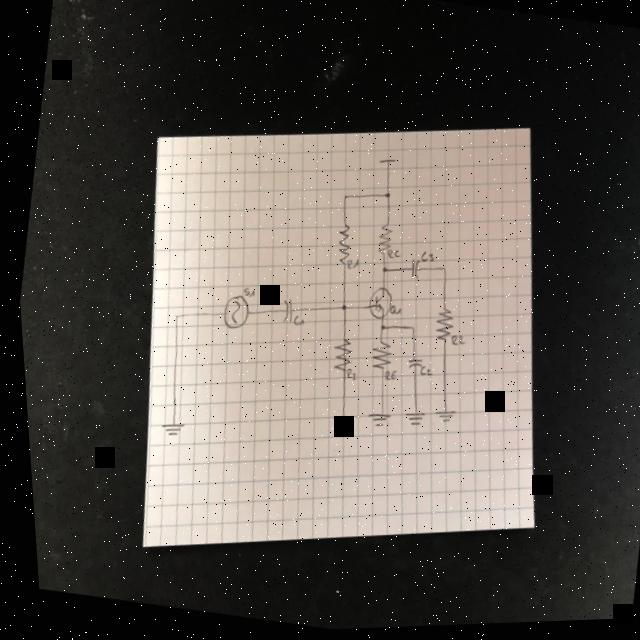capacitor: (274, 298, 290, 326), (402, 259, 417, 282), (400, 358, 417, 371)
ground: (357, 410, 385, 433), (151, 418, 180, 439), (323, 413, 348, 435), (394, 410, 419, 431), (425, 408, 450, 427)
junction: (333, 303, 343, 313), (434, 266, 444, 276), (372, 323, 382, 333), (166, 312, 176, 322), (336, 194, 346, 204), (375, 266, 384, 277), (402, 325, 411, 335), (379, 191, 388, 201)
resistor: (322, 336, 350, 376), (425, 307, 453, 346), (328, 222, 351, 269), (361, 339, 390, 373), (370, 221, 392, 259)
source: (214, 293, 246, 334), (373, 156, 394, 174)
text: (443, 335, 460, 349), (376, 369, 391, 384), (414, 251, 430, 265), (380, 249, 397, 262), (286, 314, 301, 328), (340, 258, 355, 272), (338, 368, 352, 383), (236, 286, 251, 299), (383, 304, 397, 317), (412, 367, 427, 379)
transistor: (360, 286, 391, 322)
